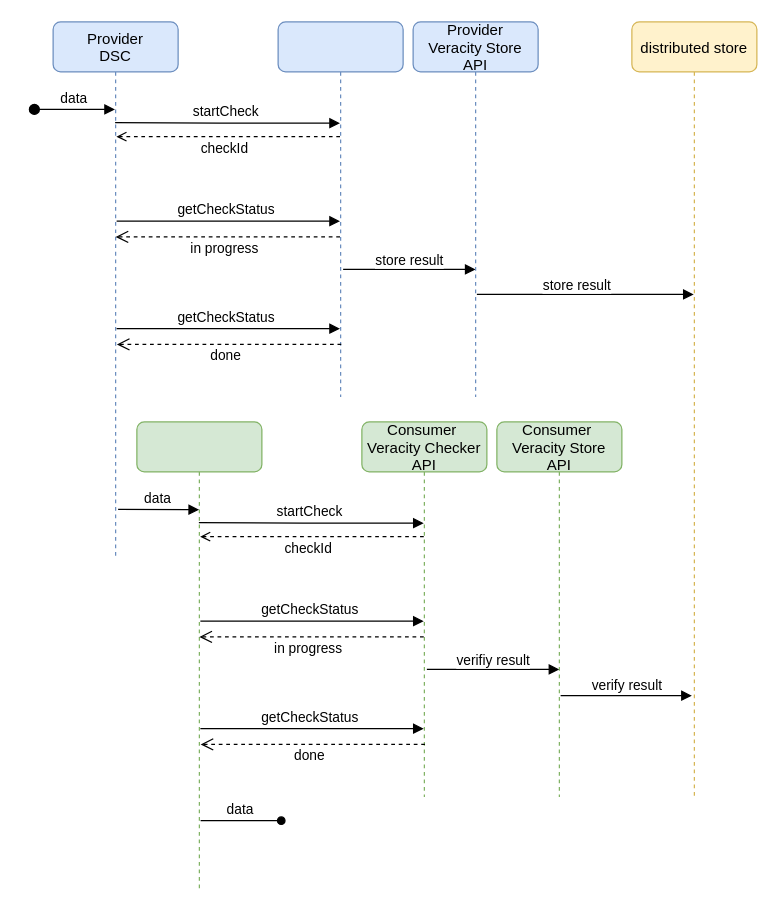
The diagram is 779 pixels wide and 914 high, and some of its shapes have lost their labels. The box of each missing label's shape, as (x1, y1, x2, y2) in pixels:
Consumer DSC: (136, 421, 262, 892)
Provider Veracity Checker API: (277, 21, 403, 397)
